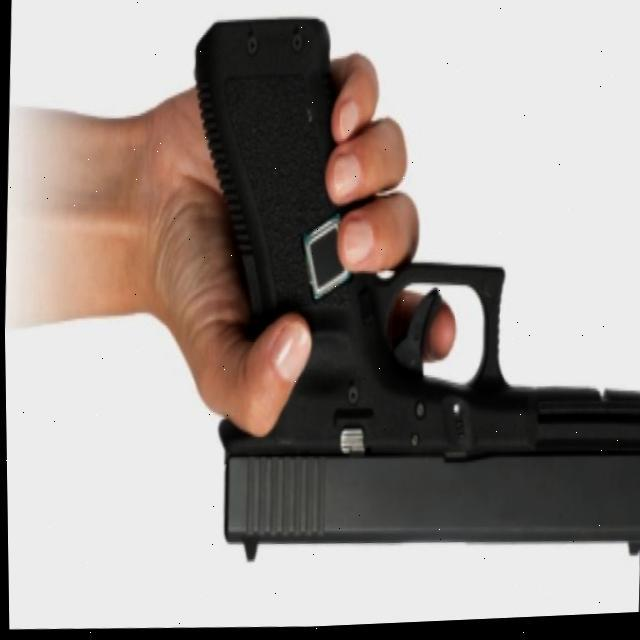gun: (174, 3, 640, 580)
